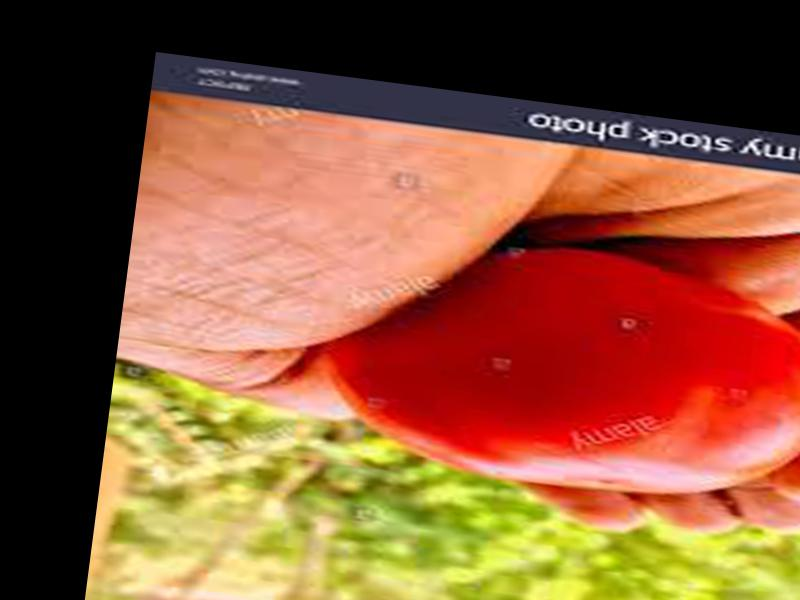Tomato: (322, 221, 800, 515)
